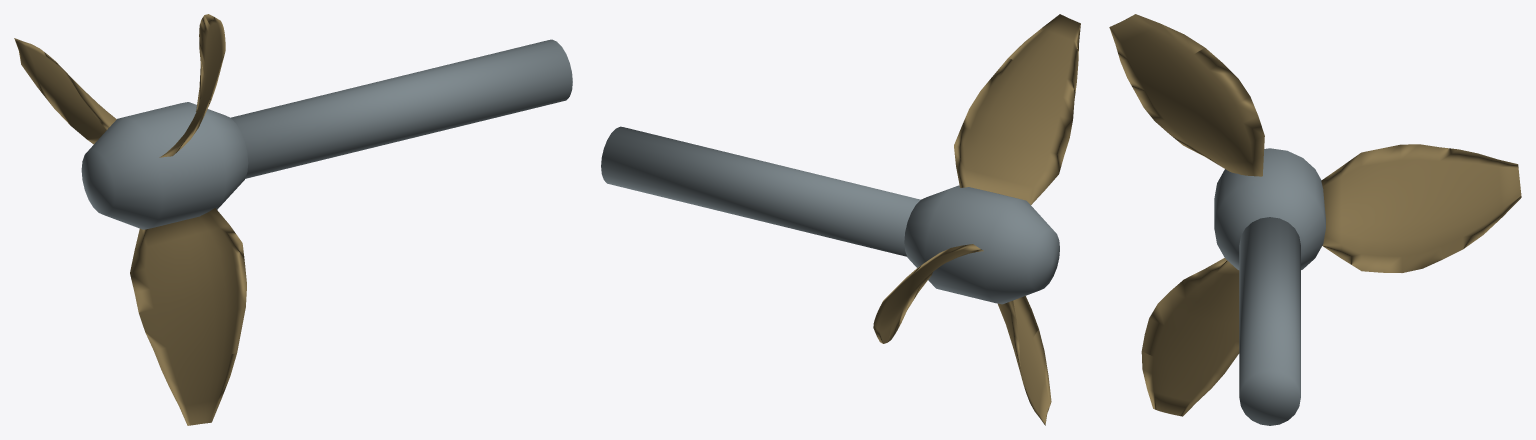
The model's file is PROP_T02_IMPROVED_LOD1.fbx.
3 renders of one model, left to right at view 1: azimuth 30°, elevation 25°; view 2: azimuth 150°, elevation 25°; view 3: azimuth 270°, elevation 25°, orthographic. The views are drawn at different scales.
Visible parts, largest first — view 1: PROP_T02_IMPROVED_LOD1_Shaft.001, PROP_T02_IMPROVED_LOD1_Blade_02.001, PROP_T02_IMPROVED_LOD1_Hub.001, PROP_T02_IMPROVED_LOD1_Blade_00.001, PROP_T02_IMPROVED_LOD1_Blade_01.001; view 2: PROP_T02_IMPROVED_LOD1_Shaft.001, PROP_T02_IMPROVED_LOD1_Blade_01.001, PROP_T02_IMPROVED_LOD1_Hub.001, PROP_T02_IMPROVED_LOD1_Blade_02.001, PROP_T02_IMPROVED_LOD1_Blade_00.001; view 3: PROP_T02_IMPROVED_LOD1_Blade_00.001, PROP_T02_IMPROVED_LOD1_Blade_01.001, PROP_T02_IMPROVED_LOD1_Shaft.001, PROP_T02_IMPROVED_LOD1_Blade_02.001, PROP_T02_IMPROVED_LOD1_Hub.001.
Boxes of the visible parts, x1,y1,x2,y2 form: PROP_T02_IMPROVED_LOD1_Shaft.001: (231,39,572,178); PROP_T02_IMPROVED_LOD1_Blade_02.001: (130,208,246,425); PROP_T02_IMPROVED_LOD1_Hub.001: (81,102,248,229); PROP_T02_IMPROVED_LOD1_Blade_00.001: (14,38,116,144); PROP_T02_IMPROVED_LOD1_Blade_01.001: (159,14,225,157); PROP_T02_IMPROVED_LOD1_Shaft.001: (601,126,920,256); PROP_T02_IMPROVED_LOD1_Blade_01.001: (954,14,1080,204); PROP_T02_IMPROVED_LOD1_Hub.001: (904,185,1059,304); PROP_T02_IMPROVED_LOD1_Blade_02.001: (998,296,1051,425); PROP_T02_IMPROVED_LOD1_Blade_00.001: (873,244,983,343); PROP_T02_IMPROVED_LOD1_Blade_00.001: (1321,144,1521,272); PROP_T02_IMPROVED_LOD1_Blade_01.001: (1109,14,1264,176); PROP_T02_IMPROVED_LOD1_Shaft.001: (1239,217,1300,425); PROP_T02_IMPROVED_LOD1_Blade_02.001: (1141,258,1239,416); PROP_T02_IMPROVED_LOD1_Hub.001: (1214,148,1325,269).
Size of the model in its own units: 374 by 295 by 322.
